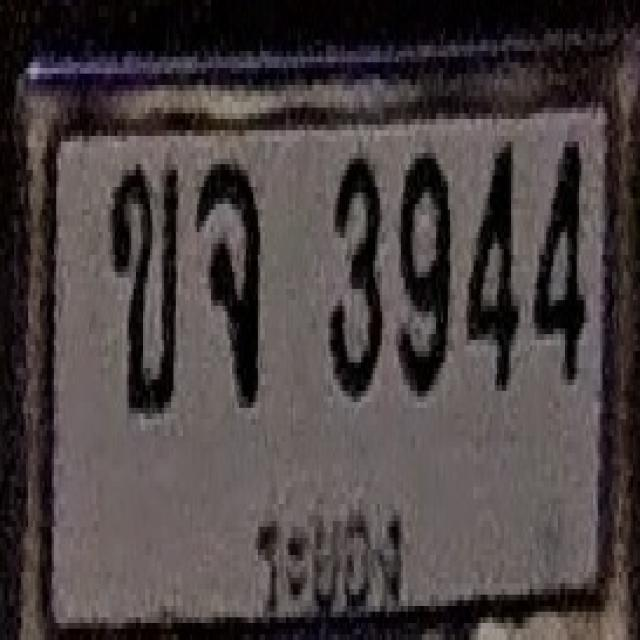-: (110, 162, 178, 410), (196, 159, 259, 402)
3: (328, 153, 382, 396)
4: (467, 139, 518, 388), (533, 136, 585, 379)
9: (399, 150, 450, 394)
RYG: (244, 487, 412, 629)
